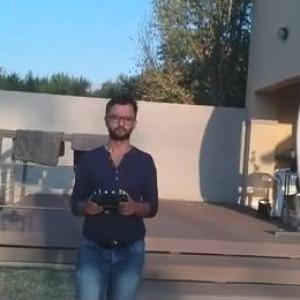follow: (65, 88, 163, 299)
